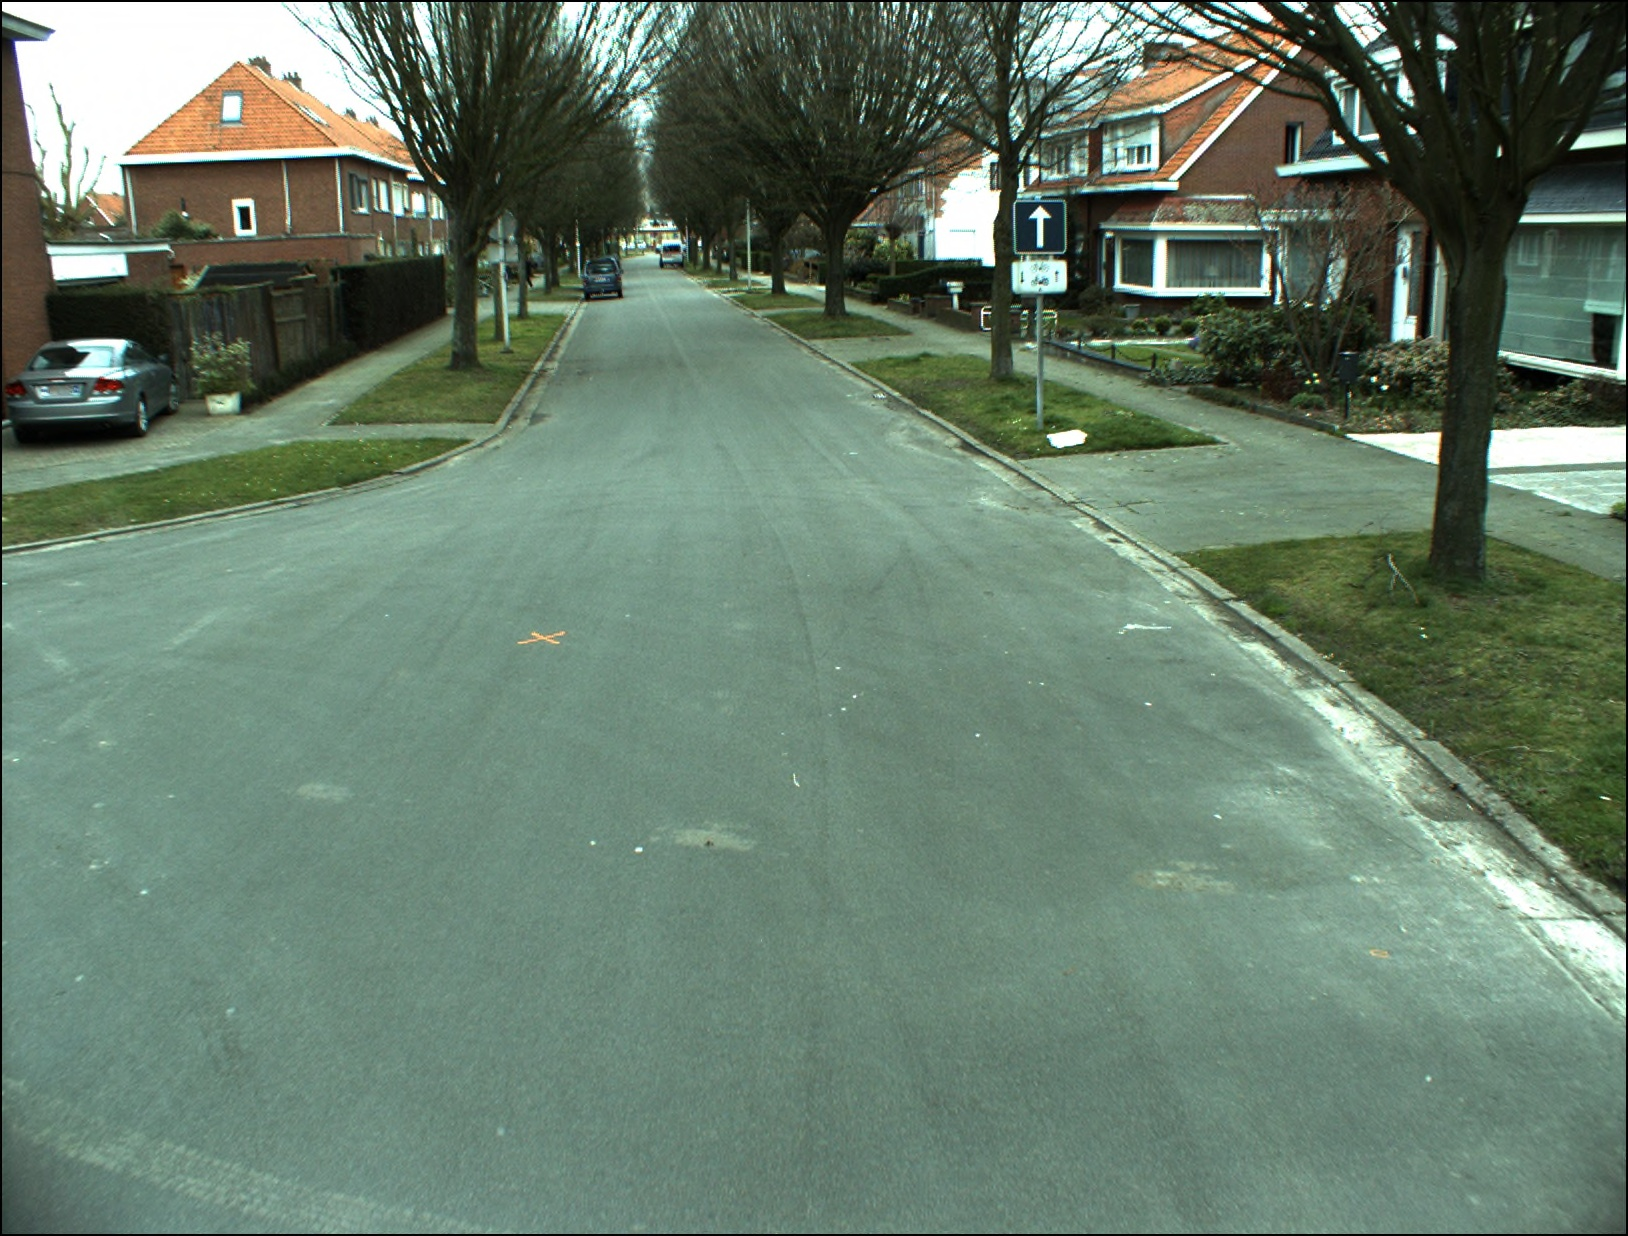oneway: (1013, 201, 1067, 252)
